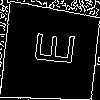E: (25, 29, 75, 67)
